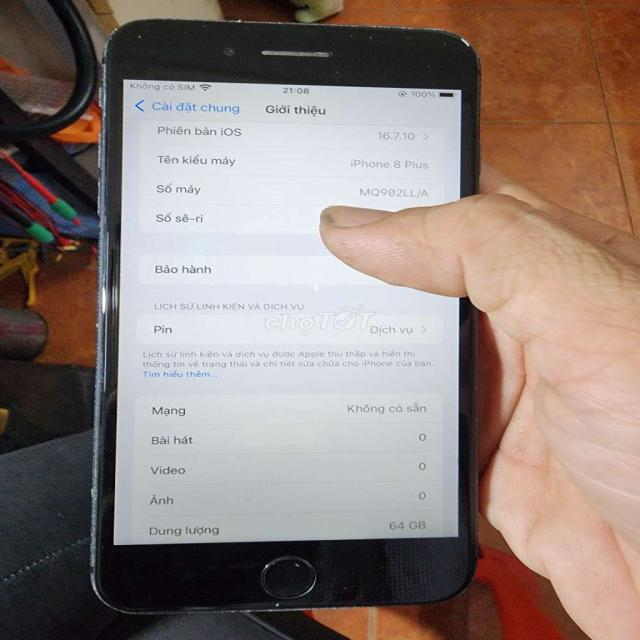scratch: (158, 9, 486, 79), (86, 36, 114, 596), (116, 600, 396, 620), (119, 22, 158, 44), (345, 568, 370, 584), (332, 582, 349, 598), (290, 560, 305, 576)
